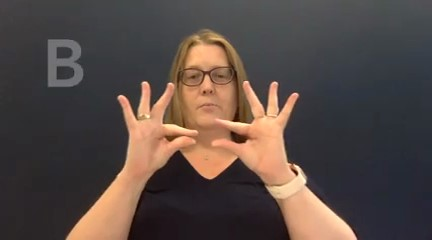B: (112, 74, 310, 172)
